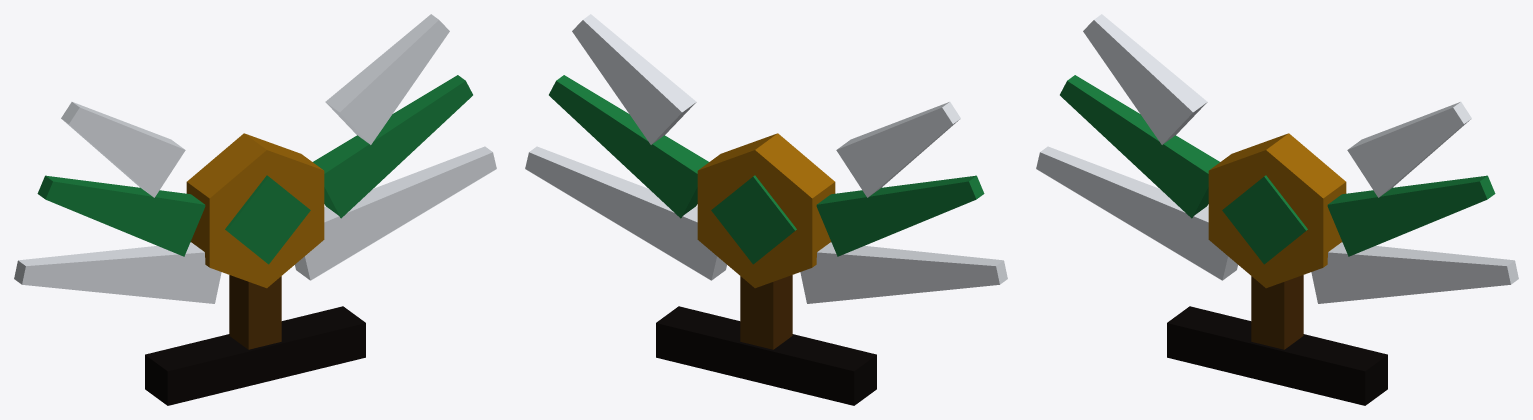
Rendered from CorredorIncansable_low.fbx.
3 renders of one model, left to right at view 1: azimuth 30°, elevation 25°; view 2: azimuth 150°, elevation 25°; view 3: azimuth 330°, elevation 25°, orthographic.
Visible parts, largest first — view 1: CorredorIncansable_low; view 2: CorredorIncansable_low; view 3: CorredorIncansable_low.
Part boxes in pixels (x1,y1,x2,y2): CorredorIncansable_low: (14, 14, 496, 405); CorredorIncansable_low: (525, 14, 1007, 405); CorredorIncansable_low: (1036, 14, 1518, 405).
Size of the model in its own units: 71.82 by 45.18 by 7.
